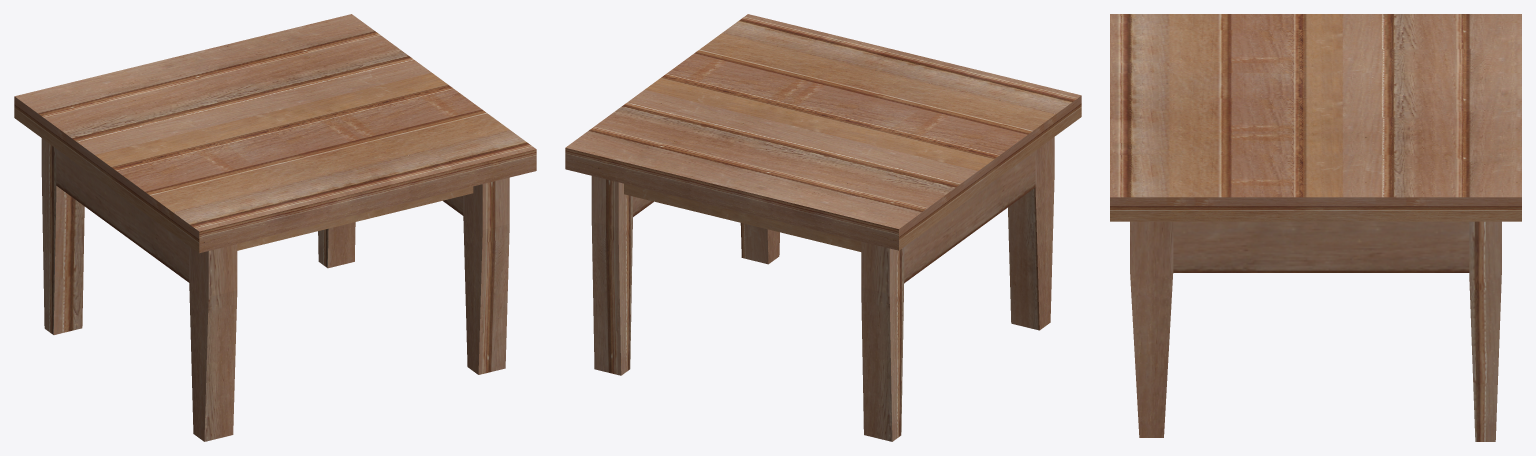
Rendered from Prop_table3.FBX.
3 renders of one model, left to right at view 1: azimuth 30°, elevation 25°; view 2: azimuth 150°, elevation 25°; view 3: azimuth 270°, elevation 25°, orthographic. The views are drawn at different scales.
Visible parts, largest first — view 1: table003; view 2: table003; view 3: table003.
Boxes of the visible parts, <box> form: table003: <box>14,14,536,441</box>; table003: <box>565,14,1081,441</box>; table003: <box>1110,14,1521,441</box>.
Bounding box in the file's own units: 38.55 × 36.58 × 24.91.
1 material, 1 textured.
